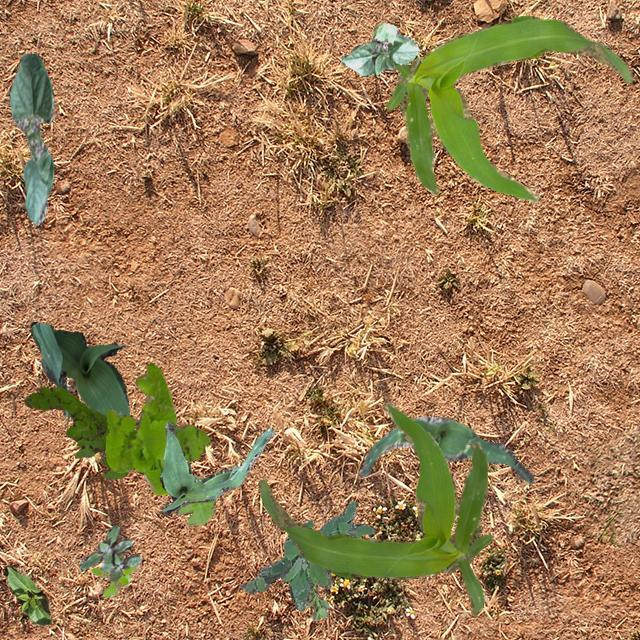crop: (258, 400, 492, 614), (370, 15, 632, 202), (358, 416, 532, 484), (158, 422, 274, 514), (29, 321, 130, 416), (8, 52, 54, 224), (339, 21, 418, 76), (4, 564, 52, 624)
weed: (104, 362, 214, 524), (240, 500, 374, 610), (23, 386, 128, 478), (78, 524, 140, 582), (90, 562, 138, 596), (304, 576, 328, 622)
